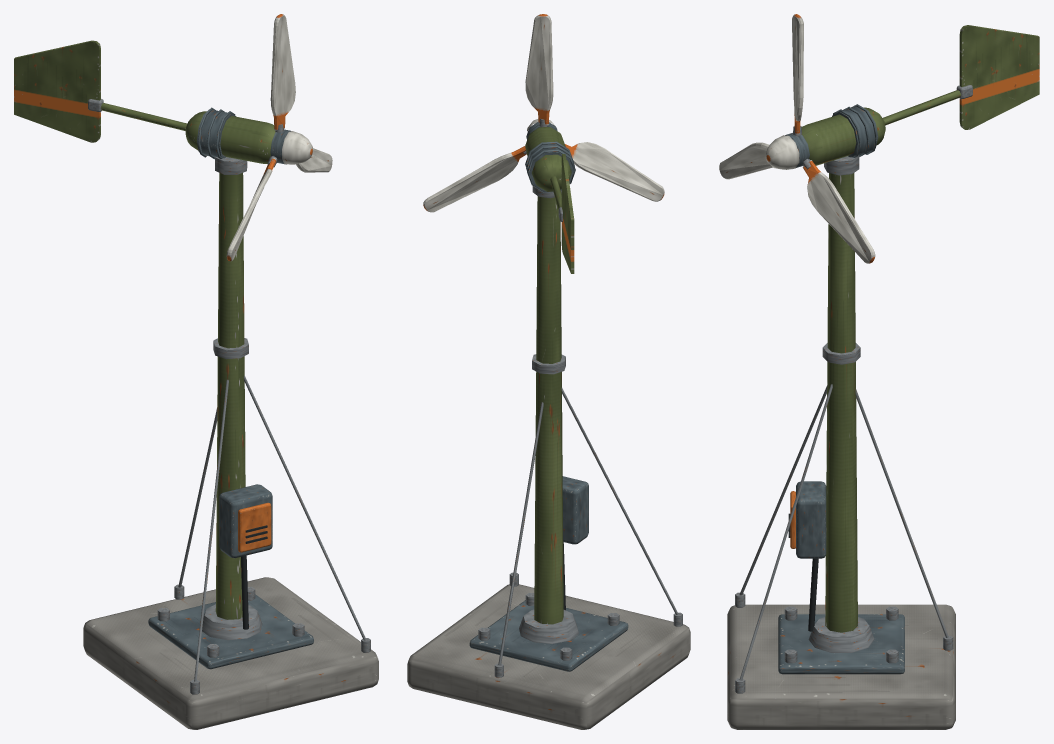
The model's file is WindTurbineSmall.glb.
3 views of the same model, side by side, from view 1: azimuth 30°, elevation 25°; view 2: azimuth 150°, elevation 25°; view 3: azimuth 270°, elevation 25° (orthographic). The views are drawn at different scales.
Visible parts, largest first — view 1: Turbine, Head, Rotor; view 2: Turbine, Rotor, Head; view 3: Turbine, Head, Rotor.
Part boxes in pixels (<box>): Turbine: <box>83,173,378,729</box>; Head: <box>14,40,275,174</box>; Rotor: <box>226,14,332,261</box>; Turbine: <box>407,196,690,729</box>; Rotor: <box>423,14,664,212</box>; Head: <box>525,127,575,273</box>; Turbine: <box>727,173,955,729</box>; Head: <box>801,25,1039,175</box>; Rotor: <box>719,14,875,263</box>.
Bounding box in the file's own units: 1.11 × 2.98 × 1.26.
8 materials, 7 textured.
